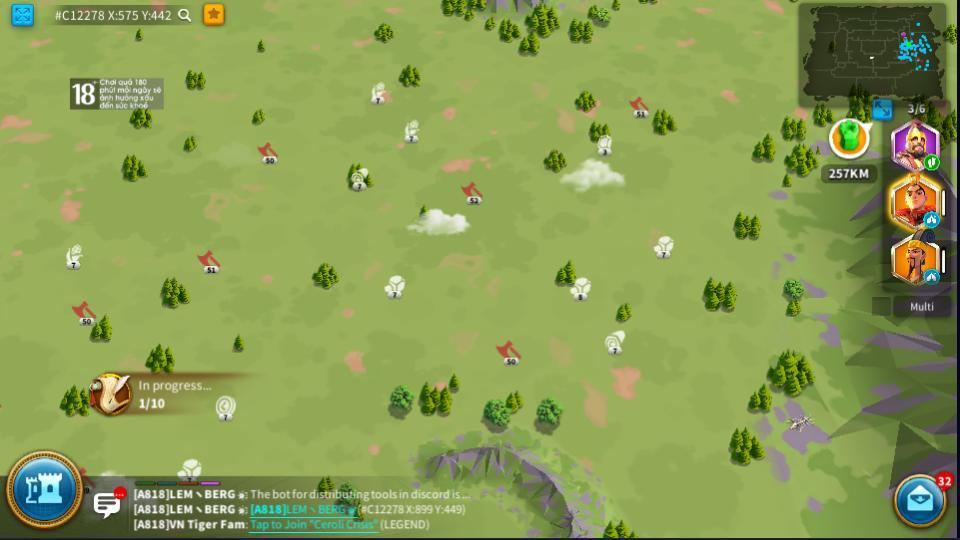gem-z-out: (177, 458, 203, 480)
march_idle: (924, 271, 939, 283), (923, 213, 938, 225)
march_marching: (923, 156, 938, 169)
